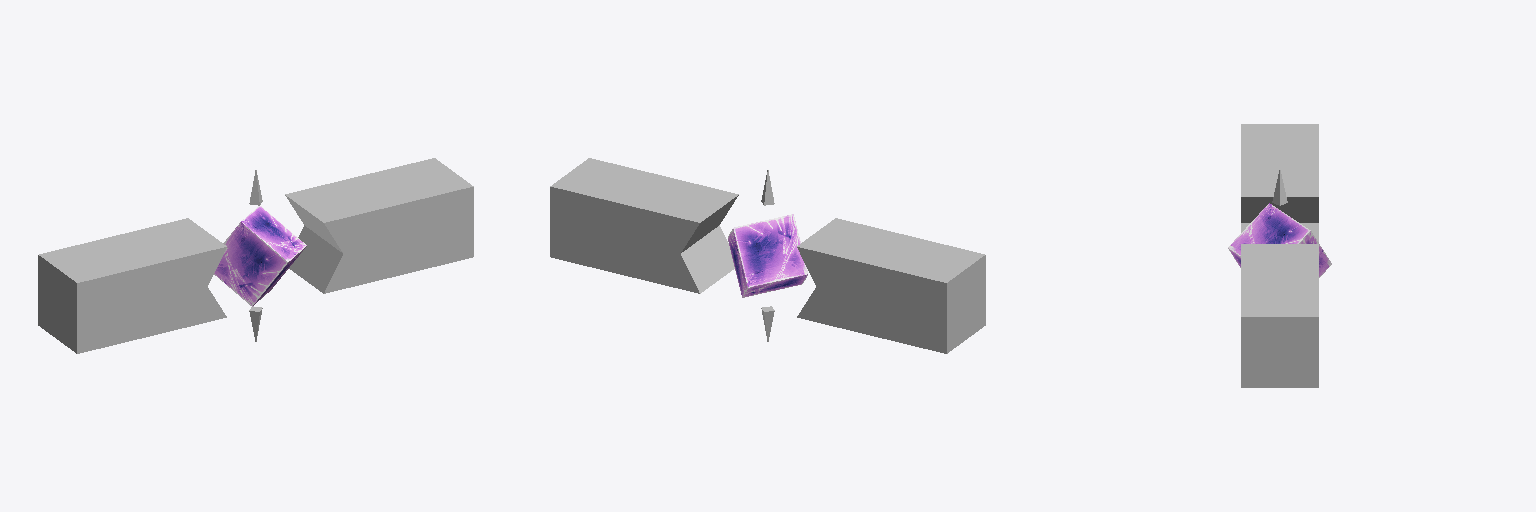
3 views of the same model, side by side, from view 1: azimuth 30°, elevation 25°; view 2: azimuth 150°, elevation 25°; view 3: azimuth 270°, elevation 25° (orthographic).
Visible parts, largest first — view 1: Cube, Cube.1; view 2: Cube, Cube.1; view 3: Cube, Cube.1.
Part boxes in pixels (bbox=[...]): Cube: bbox=[38, 158, 473, 353]; Cube.1: bbox=[214, 206, 306, 306]; Cube: bbox=[550, 158, 985, 353]; Cube.1: bbox=[728, 214, 807, 297]; Cube: bbox=[1241, 124, 1318, 387]; Cube.1: bbox=[1228, 203, 1331, 277].
Bounding box in the file's own units: 1.17 × 0.5 × 0.2674.
Materials: 2 (1 with a texture image).